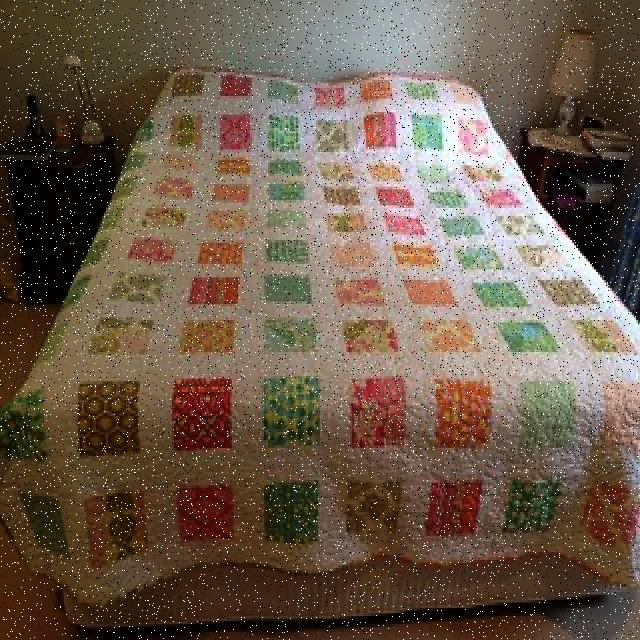bed: (22, 66, 628, 624)
